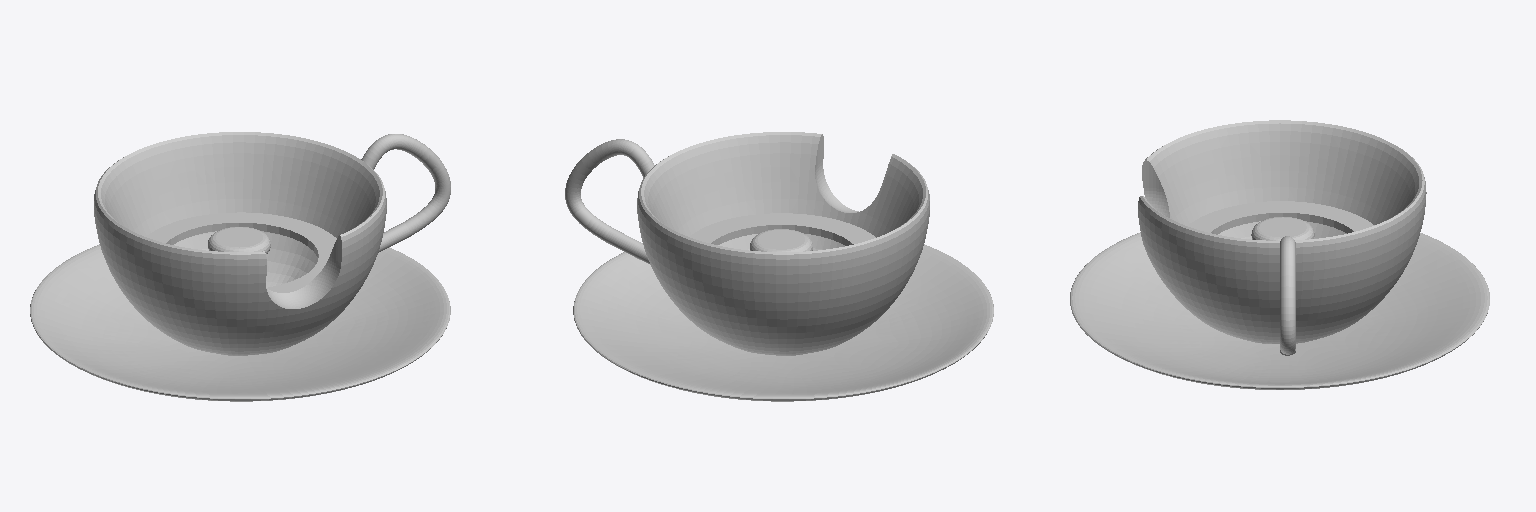
Rendered from TeaCup2.obj.
The picture shows the model from 3 angles: view 1: azimuth 30°, elevation 25°; view 2: azimuth 150°, elevation 25°; view 3: azimuth 270°, elevation 25°; orthographic projection.
Bounding box in the file's own units: 115 × 46.94 × 106.